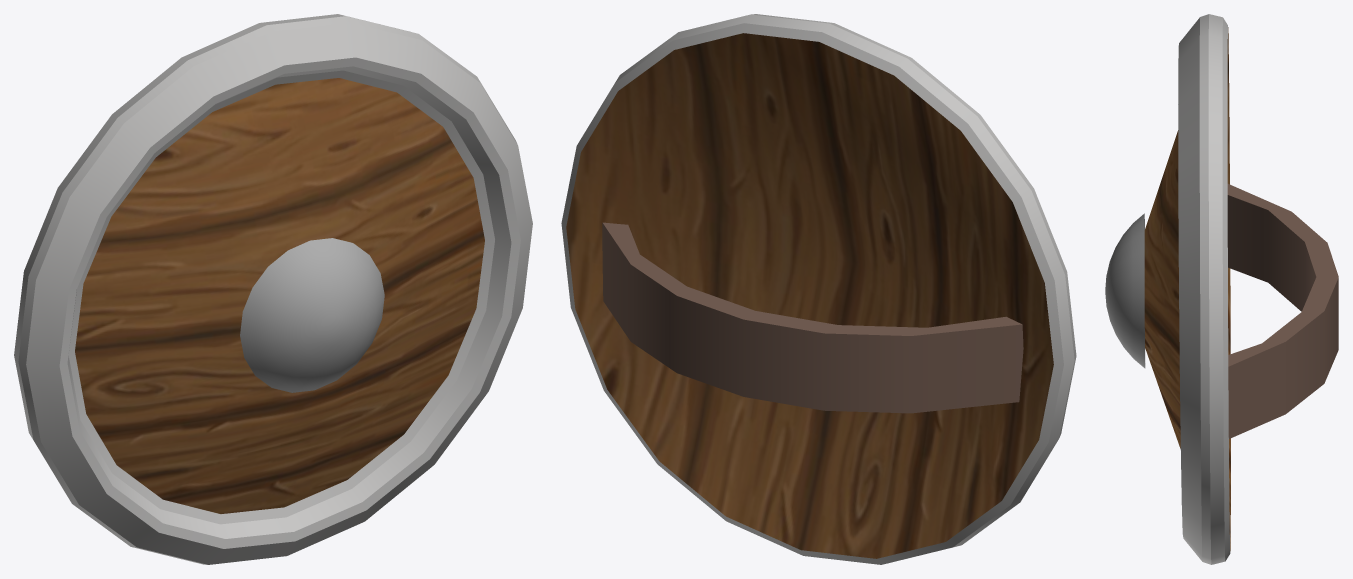
File: NorseShield_F.fbx
3 renders of one model, left to right at view 1: azimuth 30°, elevation 25°; view 2: azimuth 150°, elevation 25°; view 3: azimuth 270°, elevation 25°, orthographic. The views are drawn at different scales.
Visible parts, largest first — view 1: group1; view 2: group1; view 3: group1.
Boxes of the visible parts, left/top/right/bottom form: group1: left=14, top=14, right=532, bottom=564; group1: left=561, top=14, right=1076, bottom=564; group1: left=1105, top=14, right=1338, bottom=564.
Bounding box in the file's own units: 1.13 × 1.13 × 0.4755.
